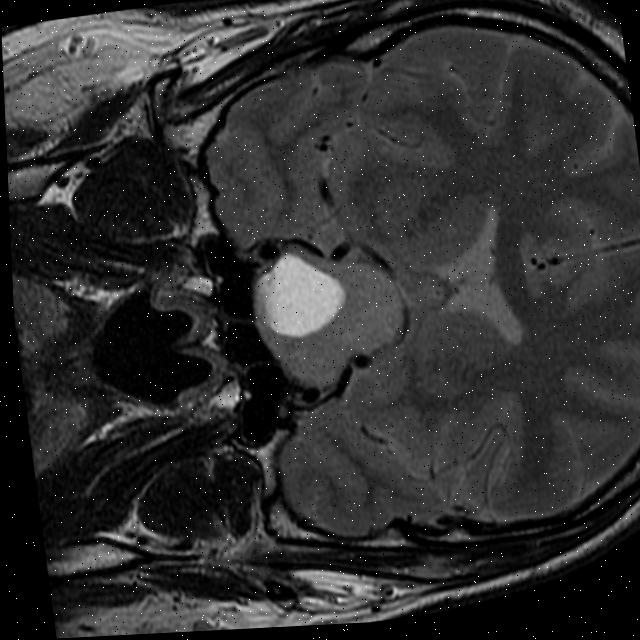Pituitary: (252, 245, 351, 344)
